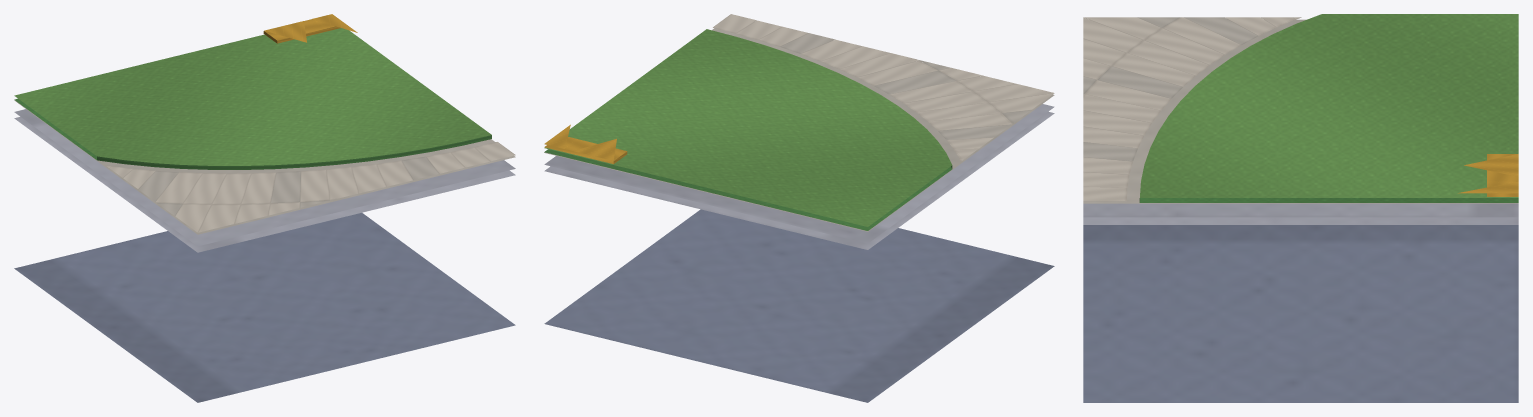
File: high_crown_fracture_28.obj
The picture shows the model from 3 angles, left to right: view 1: azimuth 30°, elevation 25°; view 2: azimuth 150°, elevation 25°; view 3: azimuth 270°, elevation 25°; orthographic projection. The views are drawn at different scales.
Visible parts, largest first — view 1: ArenaFracture28; view 2: ArenaFracture28; view 3: ArenaFracture28.
Boxes of the visible parts, x1=… form: ArenaFracture28: x1=14, y1=14, x2=515, y2=402; ArenaFracture28: x1=544, y1=14, x2=1054, y2=402; ArenaFracture28: x1=1083, y1=14, x2=1518, y2=402.
Size of the model in its own units: 10 by 5.31 by 10.
7 materials, 7 textured.
